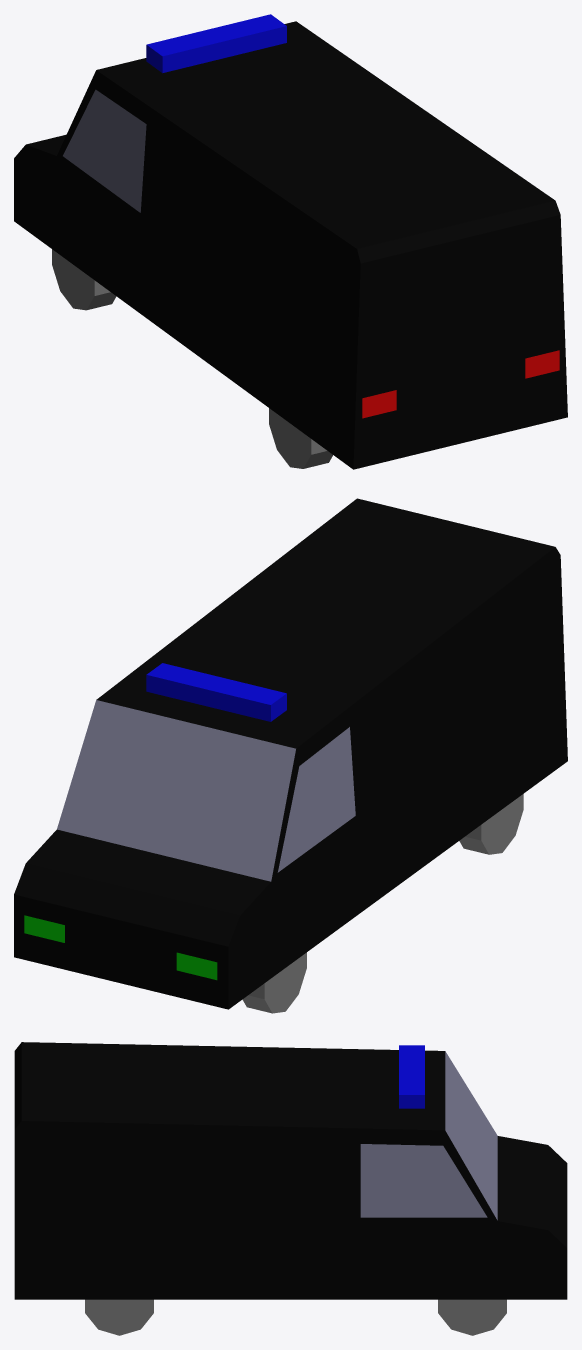
File: veh_ambulance.glb
The picture shows the model from 3 angles, top to bottom: view 1: azimuth 30°, elevation 25°; view 2: azimuth 150°, elevation 25°; view 3: azimuth 270°, elevation 25°; orthographic projection. The views are drawn at different scales.
Visible parts, largest first — view 1: veh_ambulance; view 2: veh_ambulance; view 3: veh_ambulance.
Part boxes in pixels (x1=…): veh_ambulance: x1=14, y1=14, x2=567, y2=469; veh_ambulance: x1=14, y1=498, x2=567, y2=1013; veh_ambulance: x1=14, y1=1042, x2=567, y2=1335.
Size of the model in its own units: 2 by 2.45 by 5.49.
